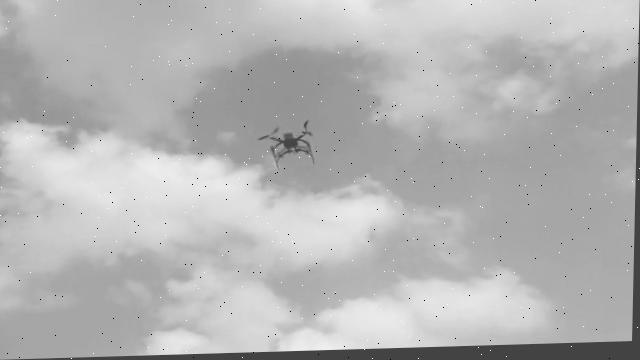drone: (254, 119, 319, 172)
